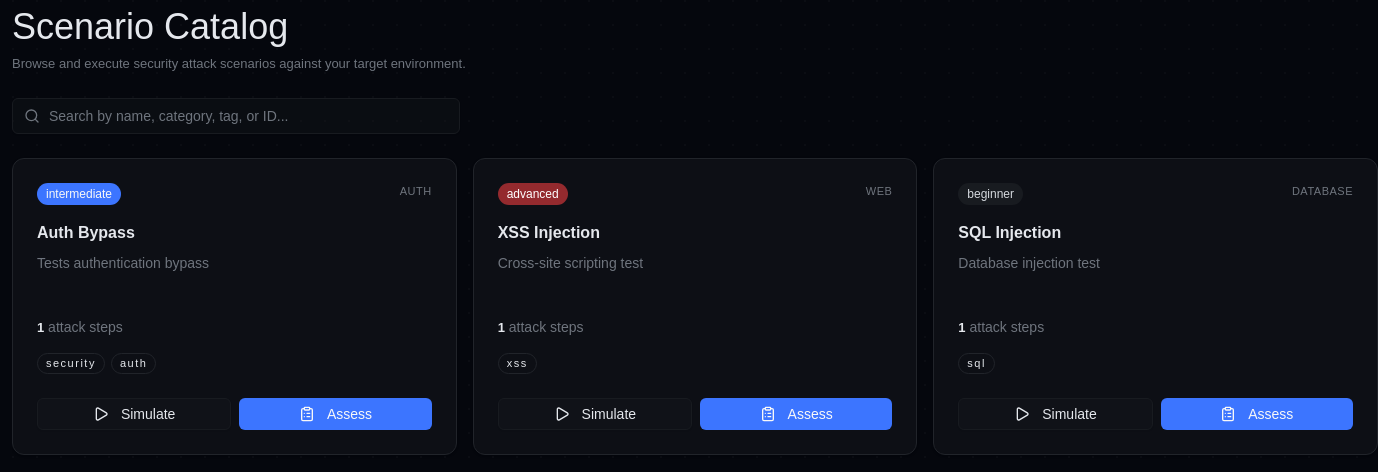
Test: ScenariosPage › filters scenarios by name (case-insensitive)
In the field with placeholder "Search by name, category, tag, or ID...": point(236, 116) [12,98,460,134], type "xss"
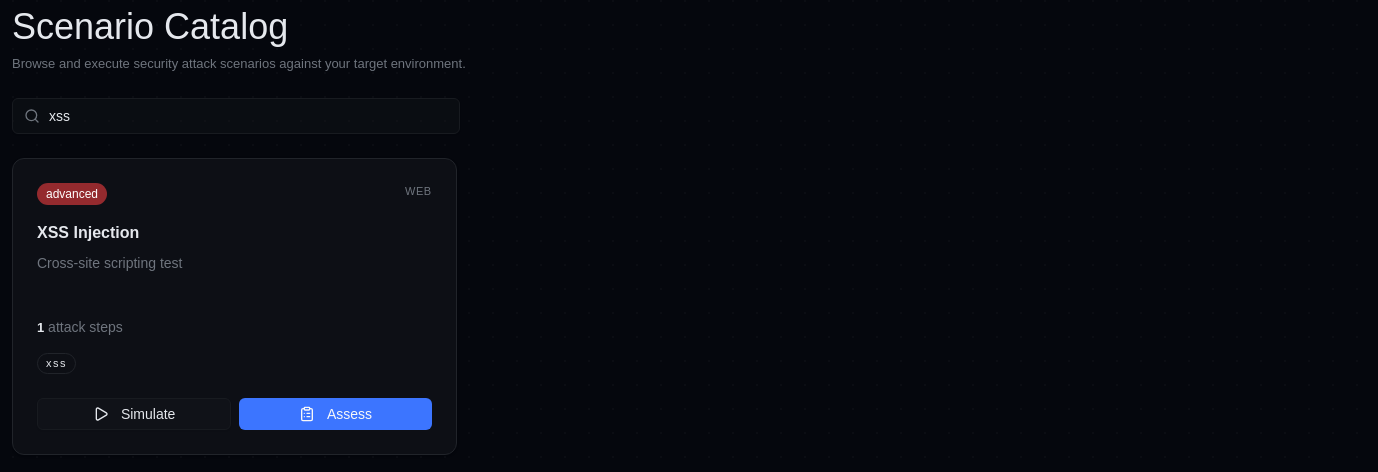
Expected: the text "XSS Injection" is shown, [37,224,139,240]
Now the text "Auth Bypass" is gone
Now the text "SQL Injection" is gone
